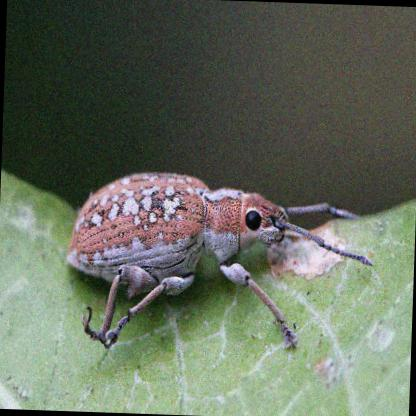ash weevil: (65, 172, 371, 351)
